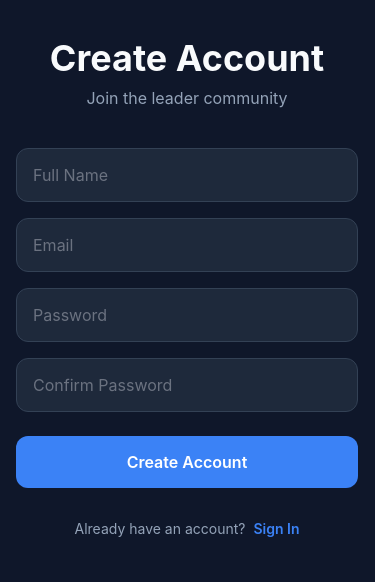
Test case: SignUpScreen › should show error when password is too short
The width and height of the screenshot is (375, 582).
Type "John Doe" into the field with placeholder "Full Name" at [187, 174], box [16,148,358,202]
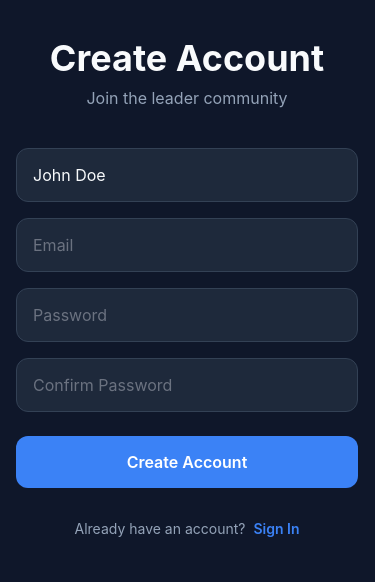
Type "john@example.com" into the field with placeholder "Email" at [187, 244], box [16,218,358,272]
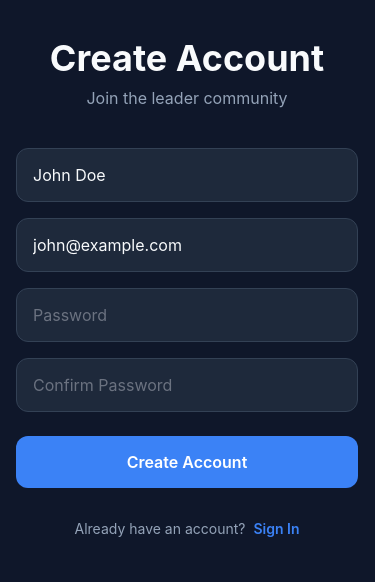
Type "12345" into the password field with placeholder "Password" at [187, 314], box [16,288,358,342]
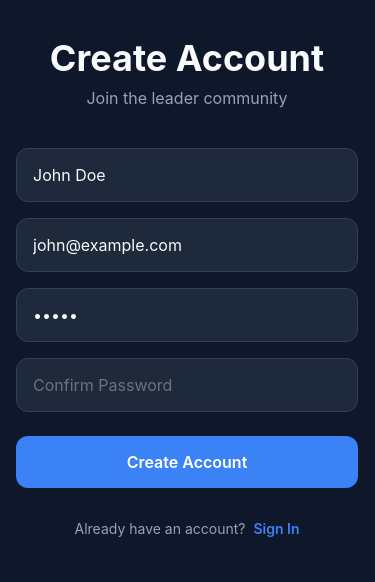
Type "12345" into the password field with placeholder "Confirm Password" at [187, 384], box [16,358,358,412]
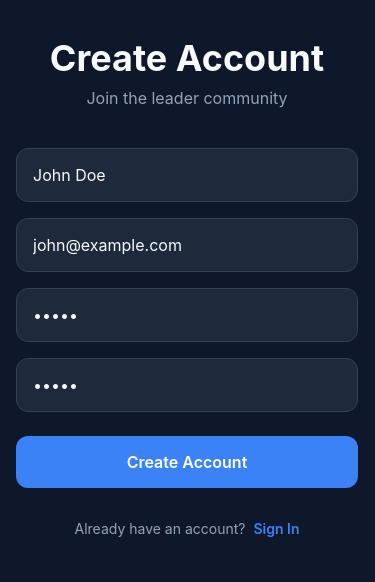
Click the 2nd text "Create Account" at [187, 462], box [127,452,247,472]
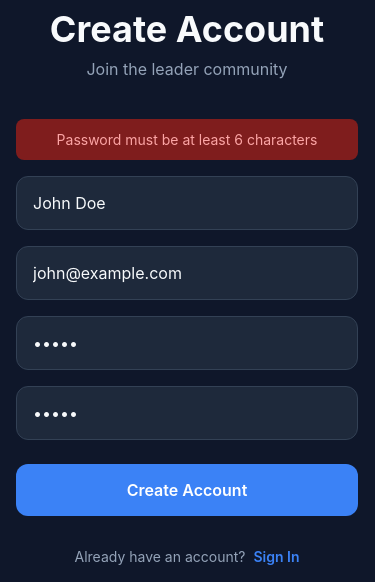
Expected: the text "Password must be at least 6 characters" is shown, [57,131,317,148]
